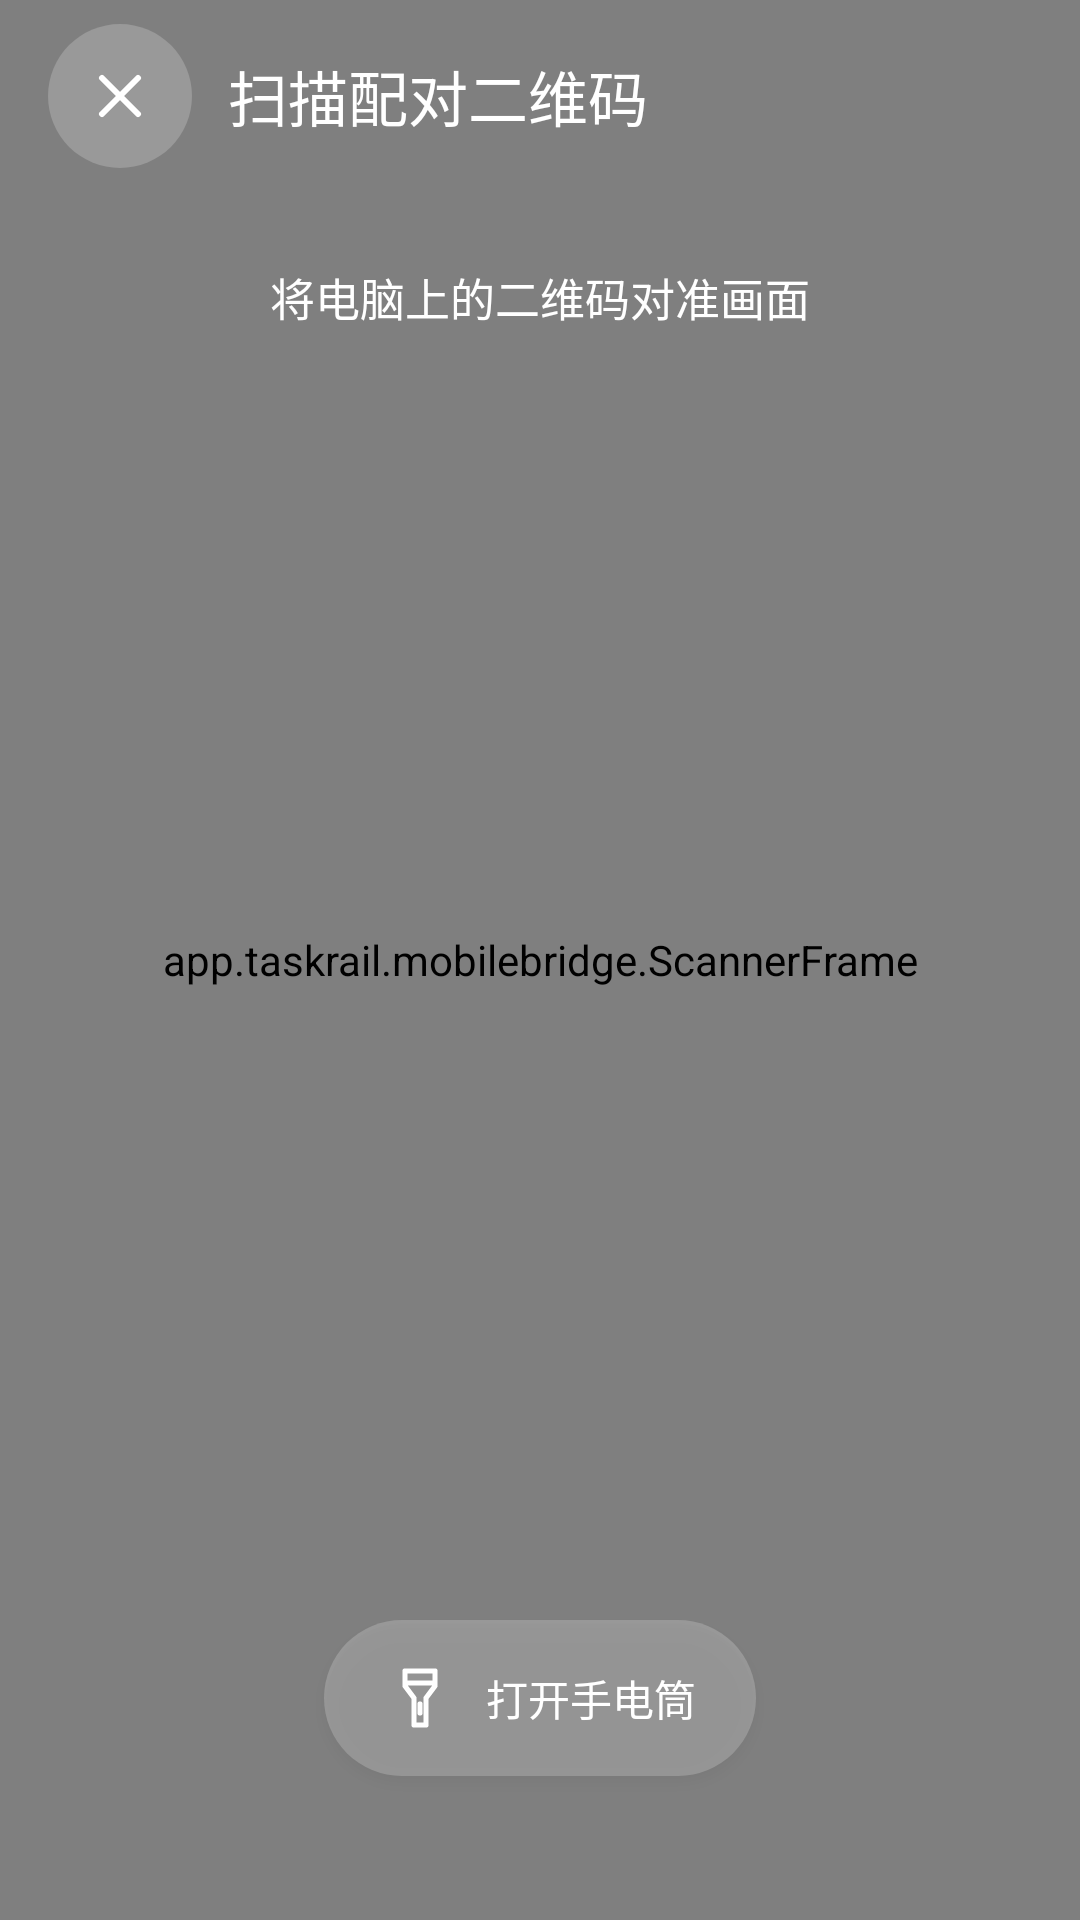

Icon bounding boxes for this 1080×1920 phone screenshot, format (left=x1, top=y1, right=x2, bottom=y2):
关闭扫码: (left=49, top=24, right=191, bottom=168)
